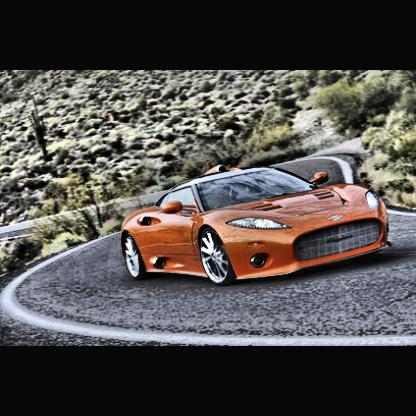Spyker C8 Coupe 2009: (119, 163, 395, 283)
